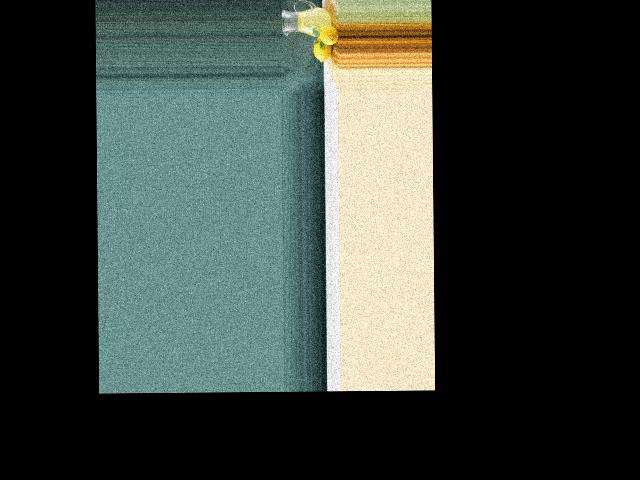lemon: (318, 24, 337, 48)
